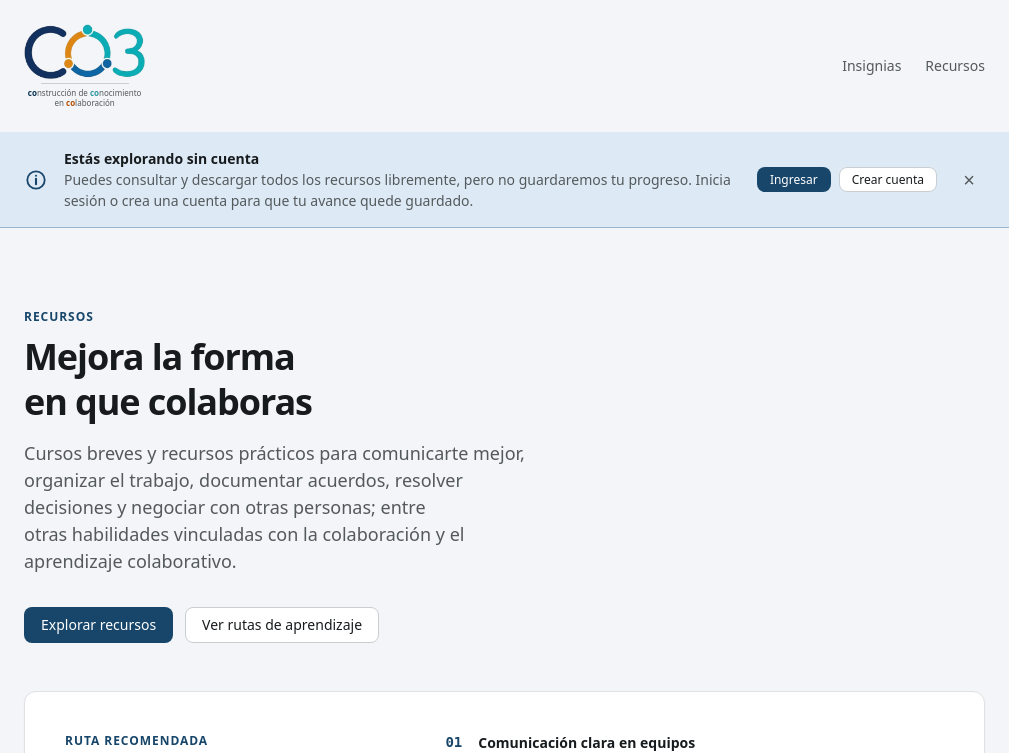
Test case: AvisoSinCuenta › se puede cerrar y no reaparece durante la visita
This screenshot has width=1024, height=753.
What coordinates should you click on to do the following:
click the button named "Cerrar aviso"
I would click on:
 (969, 180)
Its box is [953,164,985,196].
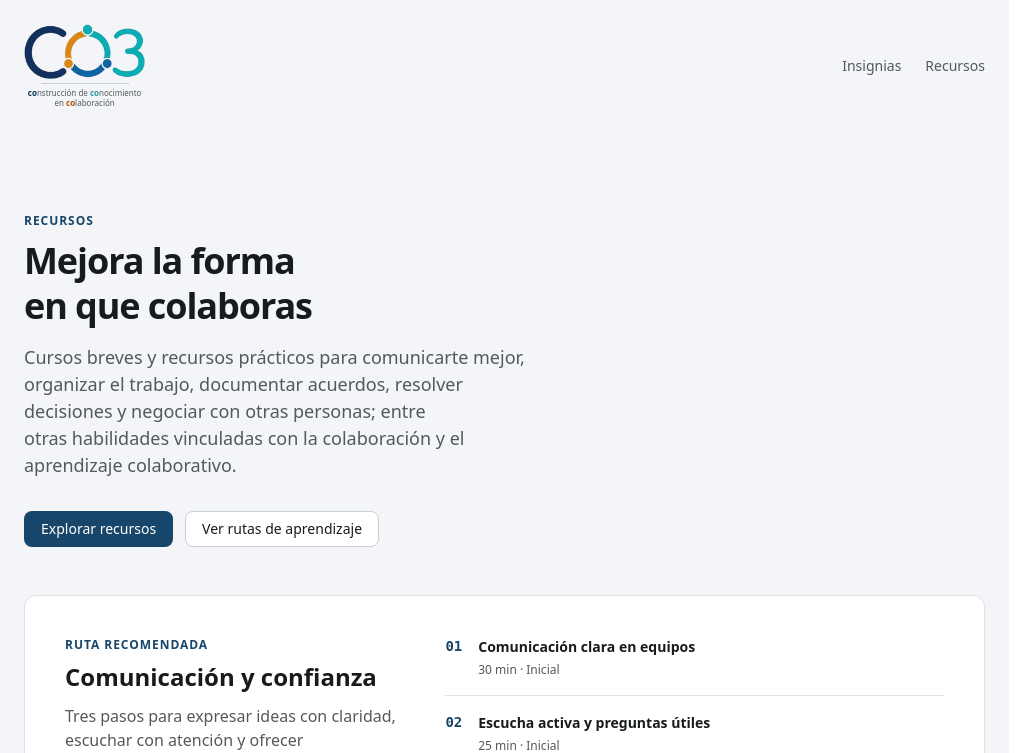
Now the text "Estás explorando sin cuenta" is gone
